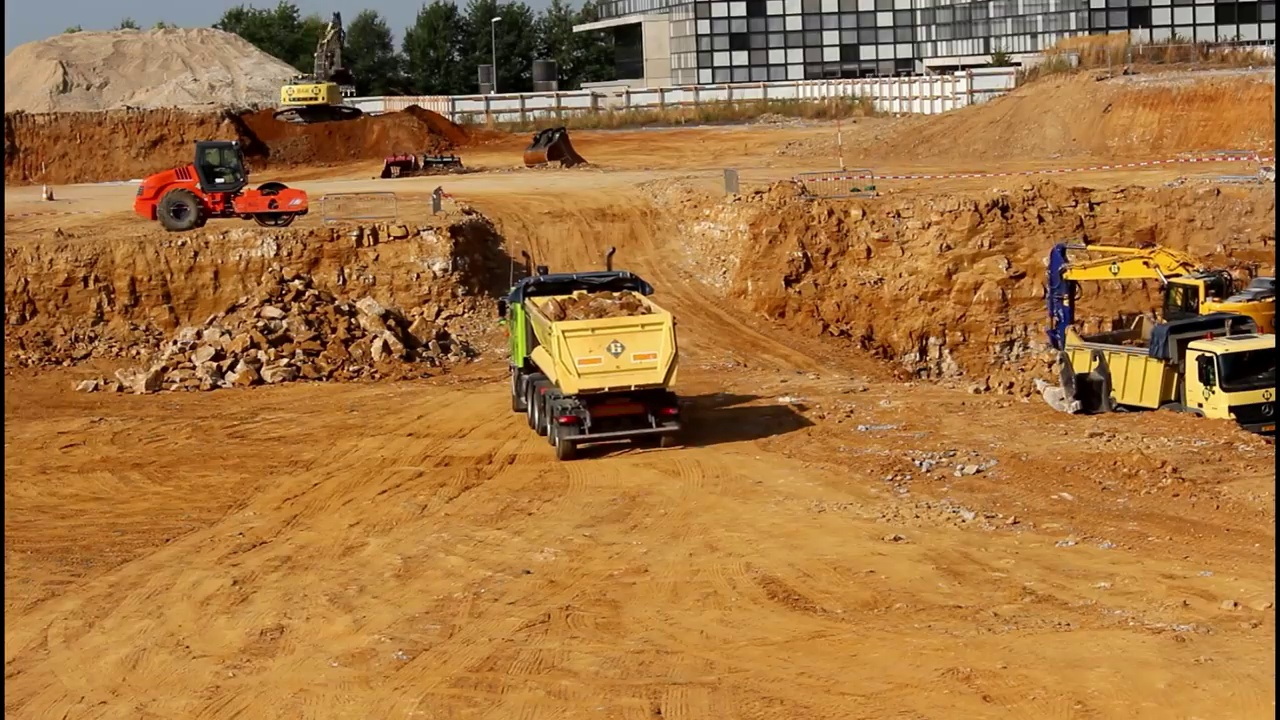excavator: (1040, 241, 1277, 416), (282, 10, 354, 115)
truck: (500, 244, 684, 456), (1076, 316, 1275, 436)
